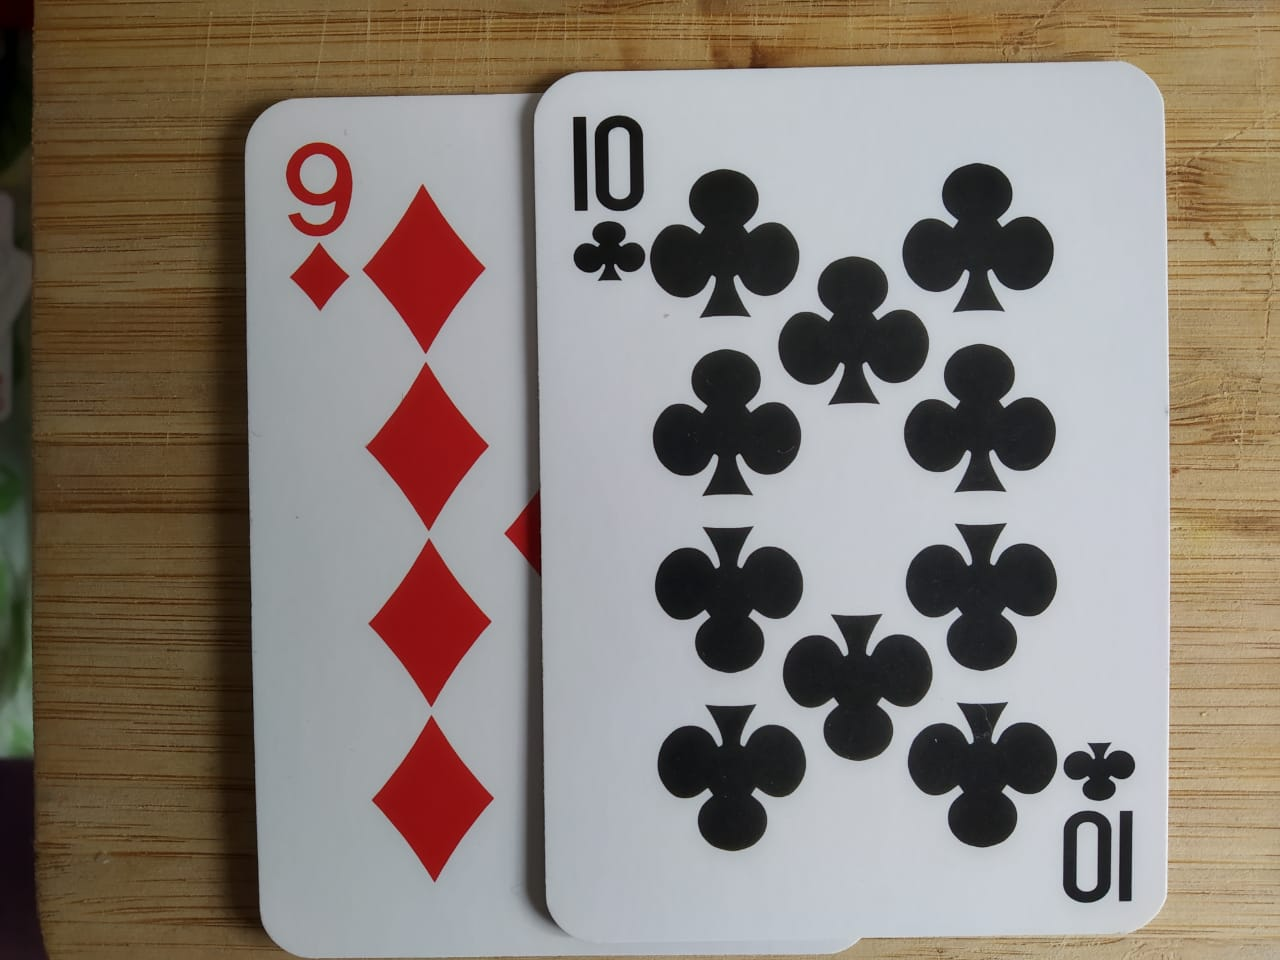nine: (220, 75, 899, 960)
ten: (513, 36, 1196, 955)
